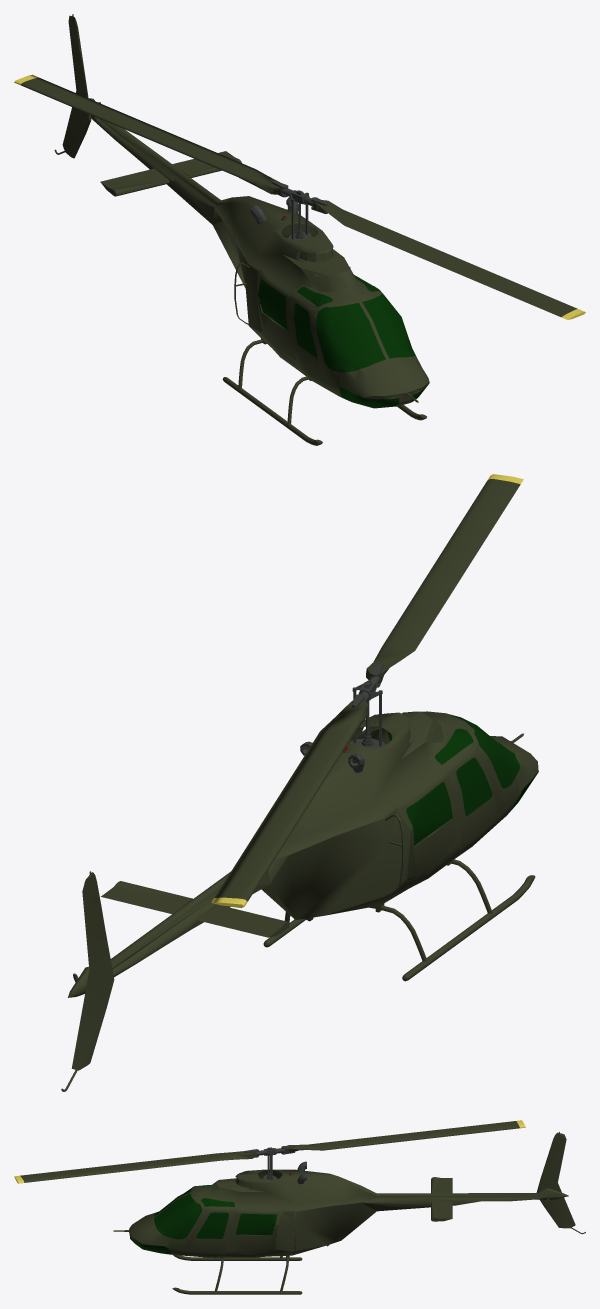
3 renders of one model, top to bottom at view 1: azimuth 30°, elevation 25°; view 2: azimuth 150°, elevation 25°; view 3: azimuth 270°, elevation 25°, orthographic. The views are drawn at different scales.
Visible parts, largest first — view 1: ab-206 fus; view 2: ab-206 fus; view 3: ab-206 fus.
Boxes of the visible parts, <box> form: ab-206 fus: <box>14,14,585,445</box>; ab-206 fus: <box>61,474,538,1091</box>; ab-206 fus: <box>14,1120,585,1294</box>.
Bounding box in the file's own units: 199 × 211 × 766.
